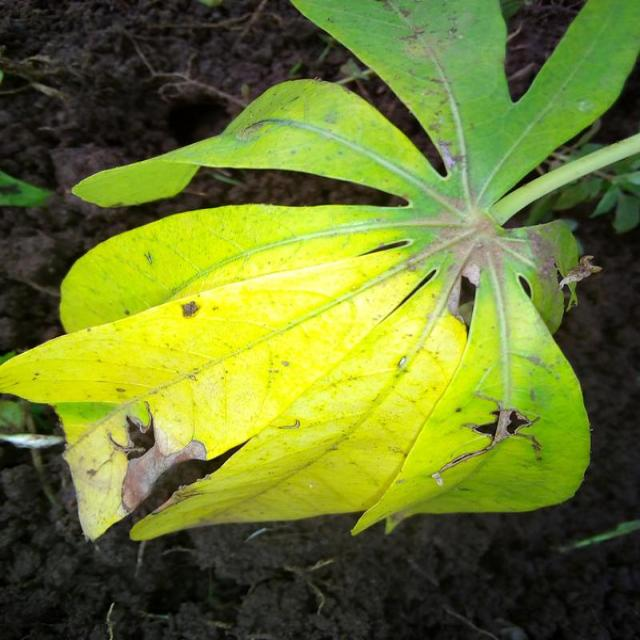cassava leaf: (1, 0, 638, 546)
